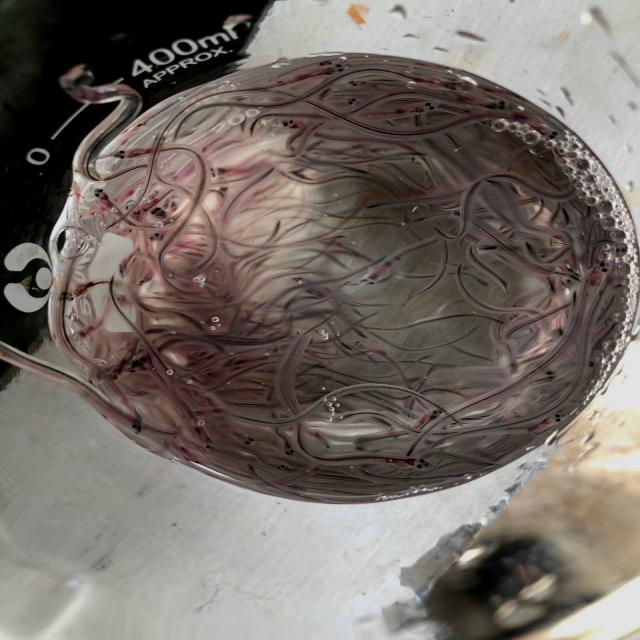glass_eel: (62, 60, 94, 92), (485, 93, 512, 117), (204, 160, 230, 184), (414, 97, 444, 117), (126, 349, 150, 374), (400, 454, 432, 472), (536, 125, 566, 143), (338, 92, 367, 110), (358, 267, 384, 287), (538, 412, 570, 428), (322, 60, 350, 78), (62, 286, 90, 304), (123, 416, 145, 438), (540, 122, 560, 146), (276, 114, 300, 132), (235, 434, 262, 449), (112, 260, 132, 280), (446, 78, 468, 96), (91, 184, 109, 204), (278, 442, 300, 458), (150, 203, 170, 220), (130, 118, 154, 132), (427, 403, 445, 421), (610, 242, 628, 260), (214, 182, 234, 198), (591, 261, 612, 276), (108, 147, 130, 161), (198, 438, 220, 452), (108, 363, 126, 380), (550, 324, 568, 341), (274, 459, 292, 474), (344, 77, 366, 89), (313, 58, 335, 70), (538, 370, 558, 383), (316, 438, 334, 452), (147, 229, 163, 244), (349, 336, 367, 349), (288, 274, 306, 286), (134, 276, 150, 288), (583, 360, 599, 370), (406, 154, 420, 164), (614, 282, 626, 292)
